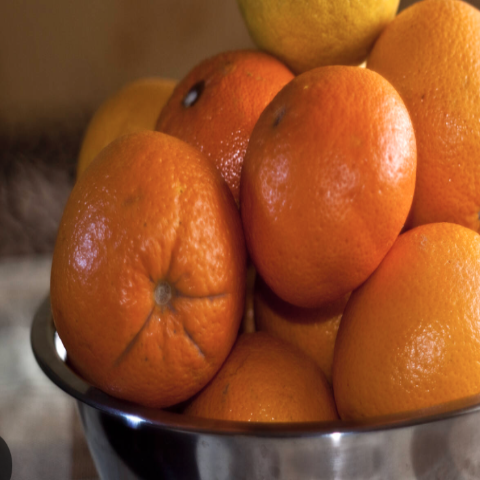orange: (40, 123, 250, 428), (222, 17, 421, 319)
